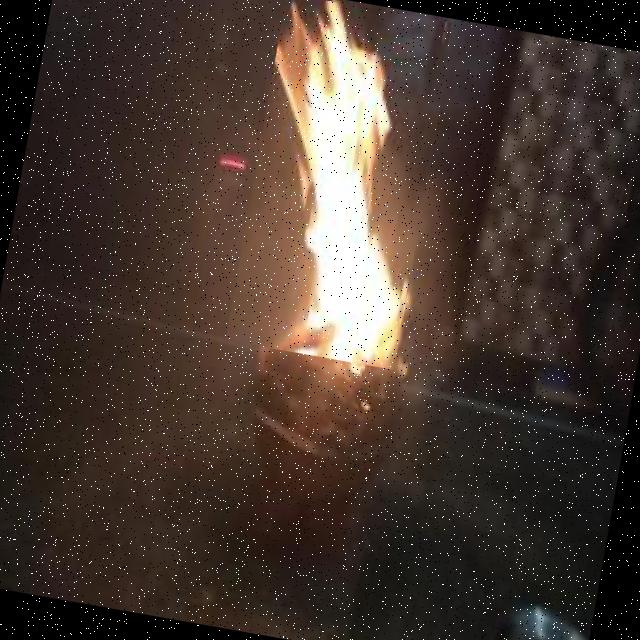fire: (225, 0, 455, 369)
